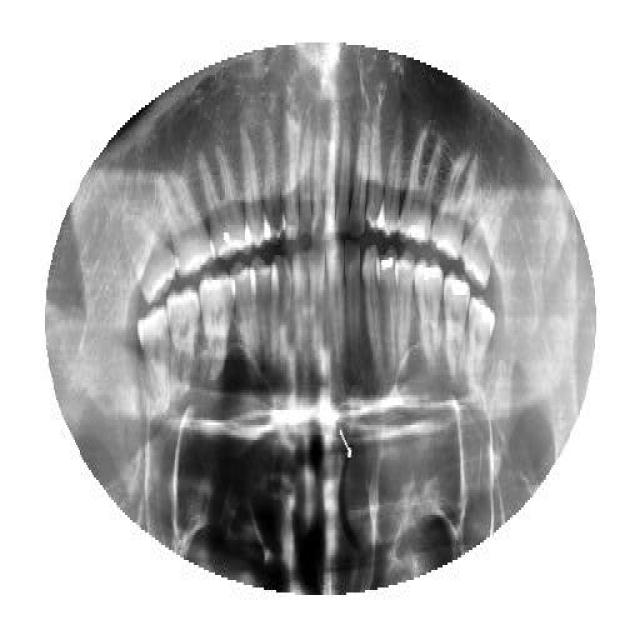Fillings: (199, 145, 249, 260), (412, 255, 443, 365), (441, 268, 471, 380), (378, 248, 402, 372), (469, 295, 496, 383)
